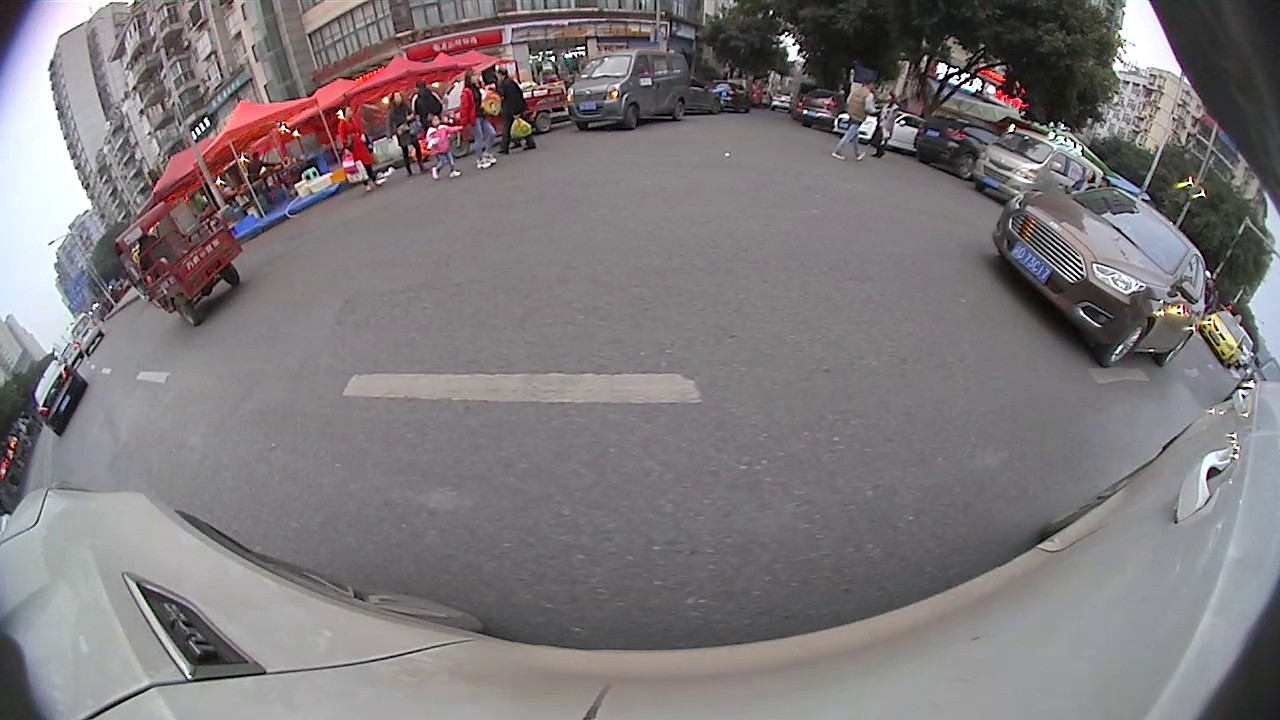car: (991, 185, 1209, 366), (969, 116, 1106, 202), (565, 48, 688, 132), (911, 106, 998, 174), (32, 357, 90, 439), (831, 106, 927, 153), (1201, 301, 1247, 369), (795, 79, 853, 130), (684, 72, 726, 118), (708, 75, 752, 114), (64, 312, 103, 353)
front: (1096, 316, 1151, 372), (622, 103, 641, 136)
person: (336, 101, 376, 197), (459, 68, 488, 169), (387, 88, 417, 182), (847, 73, 879, 160), (493, 64, 524, 153), (426, 113, 448, 181), (880, 88, 901, 155)
rear: (1157, 328, 1195, 368), (956, 151, 976, 179), (535, 110, 552, 135), (670, 99, 686, 124)
rider: (114, 197, 244, 327)
